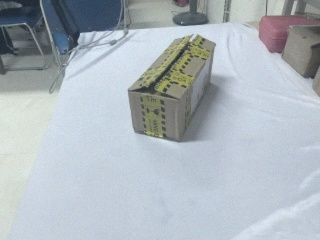box: (128, 35, 215, 141)
